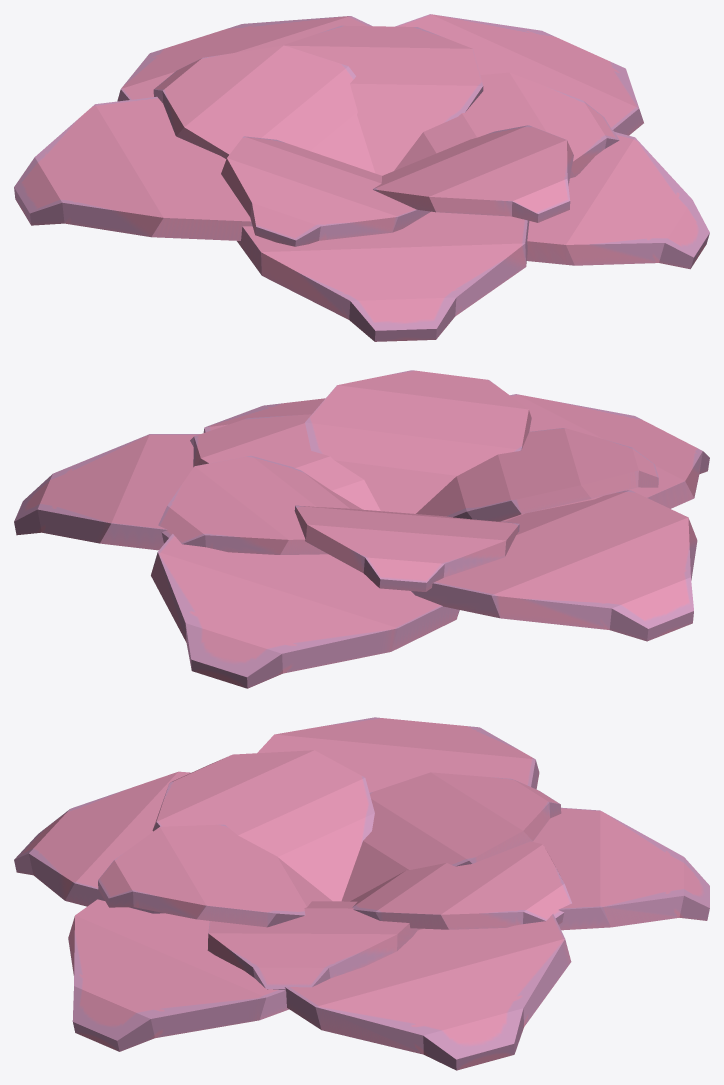
The model's file is flower_FBX.fbx.
3 renders of one model, top to bottom at view 1: azimuth 30°, elevation 25°; view 2: azimuth 150°, elevation 25°; view 3: azimuth 270°, elevation 25°, orthographic. The views are drawn at different scales.
Parts seen in each view (by area): view 1: flower_mesh; view 2: flower_mesh; view 3: flower_mesh.
Boxes of the visible parts, x1,y1,x2,y2 form: flower_mesh: (14, 14, 709, 341); flower_mesh: (14, 370, 709, 688); flower_mesh: (14, 717, 709, 1070).
Bounding box in the file's own units: 0.6554 × 0.1284 × 0.6295.
